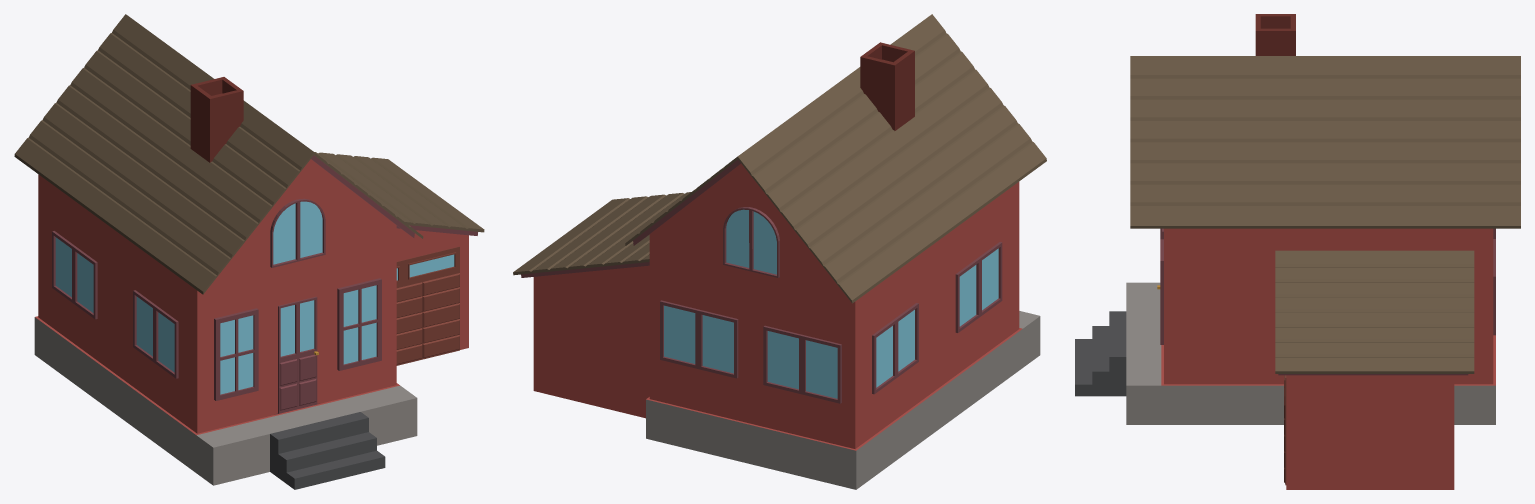
The model's file is SM_house_01_B.gltf.
3 views of the same model, side by side, from view 1: azimuth 30°, elevation 25°; view 2: azimuth 150°, elevation 25°; view 3: azimuth 270°, elevation 25° (orthographic). The views are drawn at different scales.
Parts seen in each view (by area): view 1: SM_house_01_B; view 2: SM_house_01_B; view 3: SM_house_01_B.
Part boxes in pixels (left/top/right/bottom): SM_house_01_B: left=14, top=14, right=484, bottom=489; SM_house_01_B: left=513, top=14, right=1046, bottom=489; SM_house_01_B: left=1075, top=14, right=1520, bottom=489.
Size of the model in its own units: 4.18 by 3.71 by 4.44.
